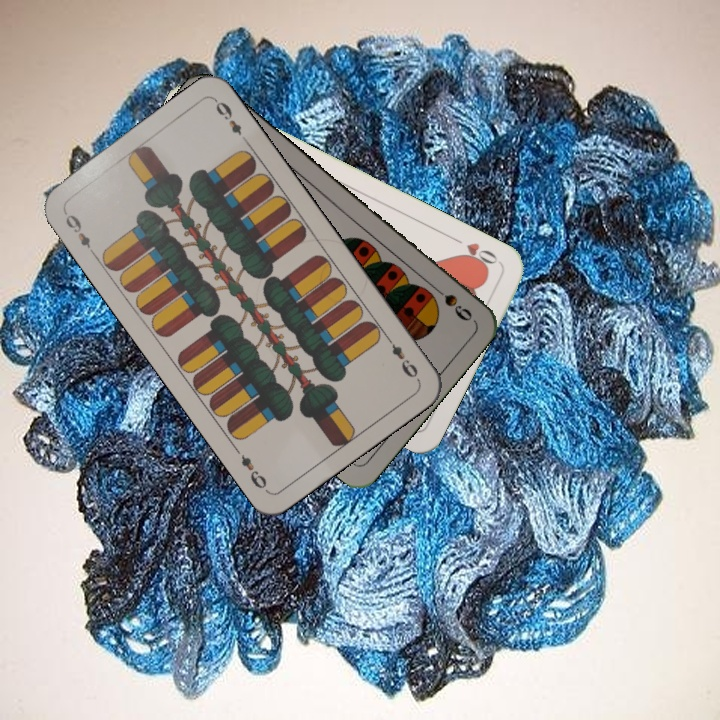E9: (381, 331, 422, 383), (59, 206, 99, 259)
HO: (448, 233, 503, 272)
S9: (426, 280, 475, 324)
